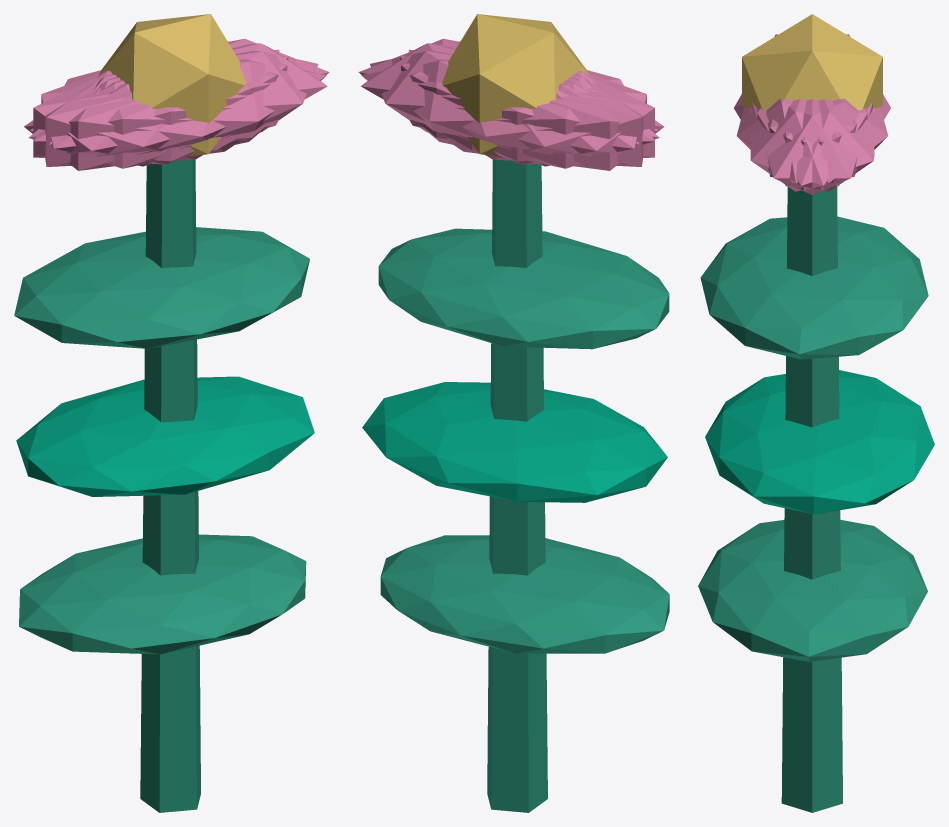
File: ficus-villosa.glb
The picture shows the model from 3 angles, left to right: view 1: azimuth 30°, elevation 25°; view 2: azimuth 150°, elevation 25°; view 3: azimuth 270°, elevation 25°; orthographic projection.
Parts seen in each view (by area): view 1: leaf2, leaf1, leaf0, stem, center, petal1, petal6, petal2, petal5, petal7, petal0, petal4 (+2 smaller); view 2: leaf1, leaf2, leaf0, stem, center, petal8, petal3, petal7, petal4, petal2, petal0, petal5 (+2 smaller); view 3: leaf2, leaf1, leaf0, stem, center, petal0, petal5, petal4, petal1, petal8.
Boxes of the visible parts, x1,y1,x2,y2 form: leaf2: (14,227,309,348); leaf1: (16,376,314,496); leaf0: (19,534,306,654); stem: (140,159,200,812); center: (99,14,246,156); petal1: (28,59,326,168); petal6: (24,72,239,170); petal2: (45,49,279,166); petal5: (49,51,318,161); petal7: (33,56,288,164); petal0: (99,43,327,150); petal4: (30,38,329,141); leaf1: (362,382,667,502); leaf2: (378,228,669,349); leaf0: (380,535,669,653); stem: (487,159,547,812); center: (442,14,588,156); petal8: (361,59,659,168); petal3: (448,72,664,170); petal7: (408,49,643,166); petal4: (370,50,639,161); petal2: (400,56,654,164); petal0: (360,43,589,150); petal5: (358,38,657,141); leaf2: (700,216,928,359); leaf1: (705,370,934,514); leaf0: (698,519,927,661); stem: (781,186,842,812); center: (742,14,882,110); petal0: (752,99,872,194); petal5: (750,99,867,191); petal4: (757,99,874,191); petal1: (736,98,856,183); petal8: (768,98,887,183).
Bounding box in the file's own units: 0.1497 × 0.3674 × 0.1029.
